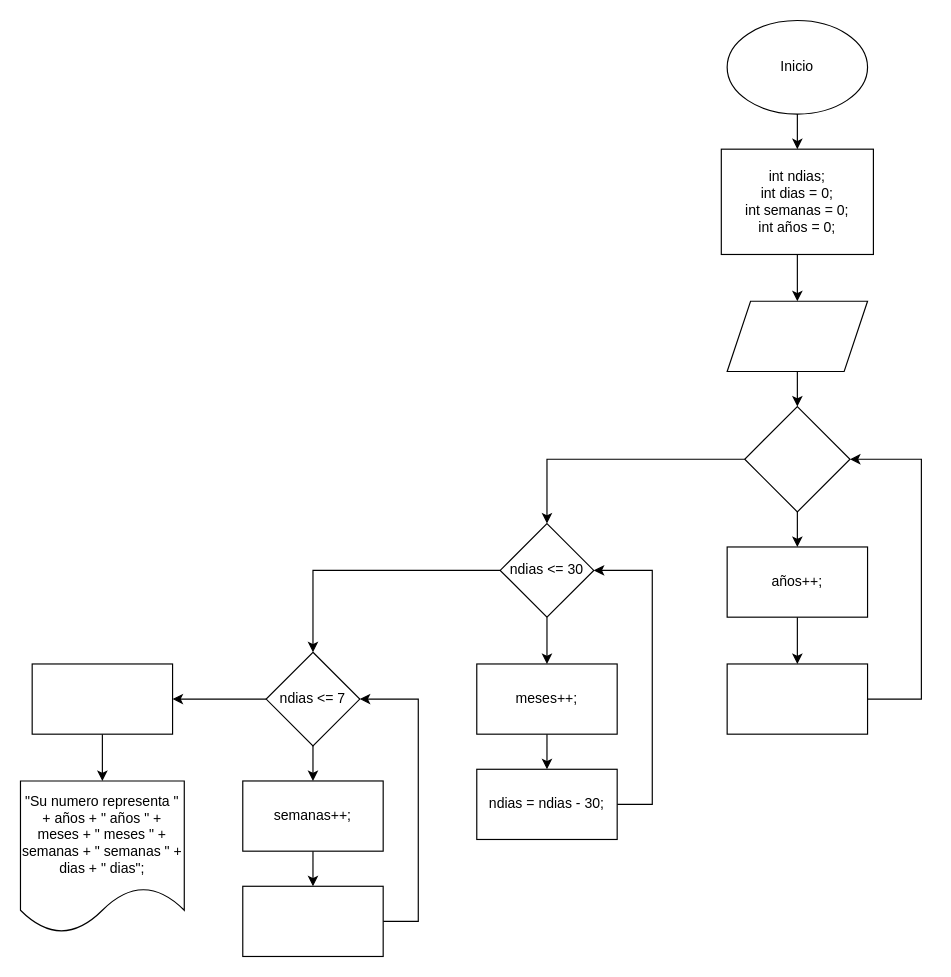
Image size: 951x977. Some labels were removed from this diagram. Each missing label, with the centre of its shape:
"dias = ndias" goes at point 102,698.
"ndias" goes at point 797,335.
"ndias <= 365" goes at point 797,458.
"ndias = ndias - 365;" goes at point 797,698.
"ndias = ndias - 7;" goes at point 312,920.
